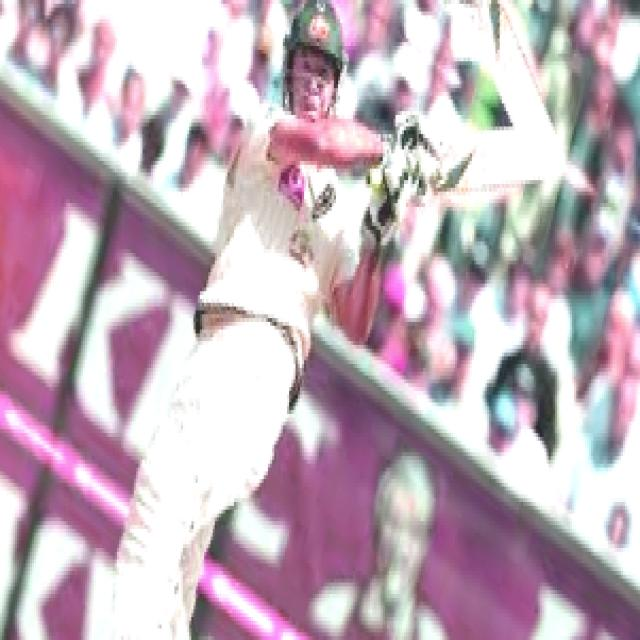toe: (514, 127, 561, 183)
